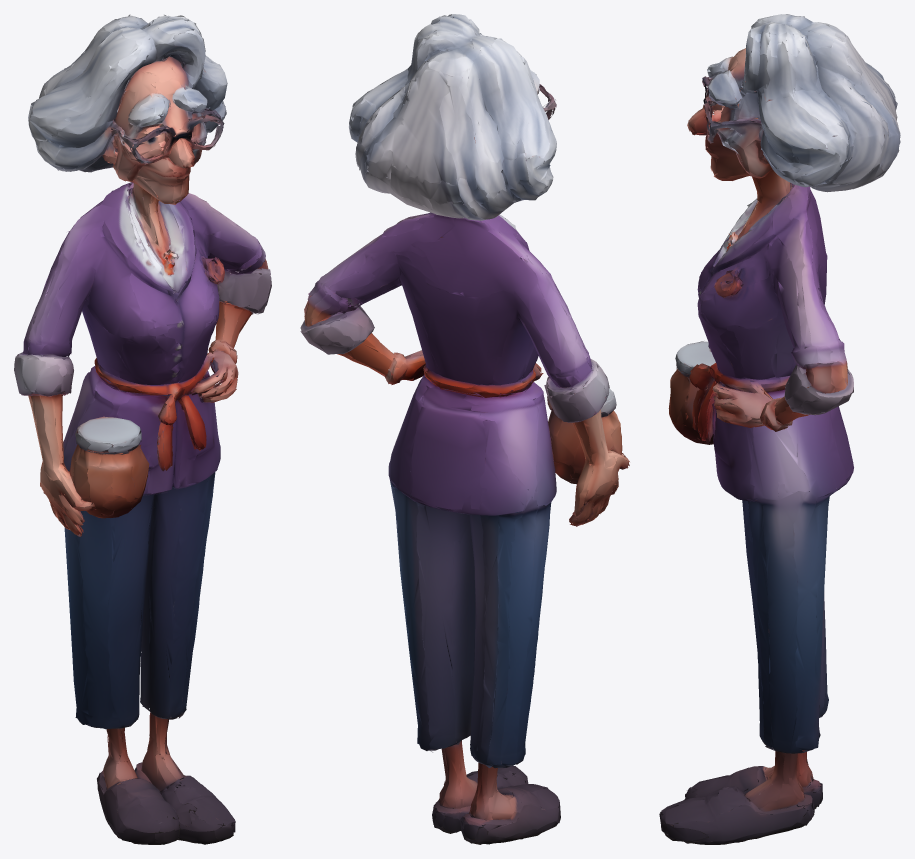
The model's file is dona_rosa_hipotensao.glb.
The picture shows the model from 3 angles, left to right: view 1: azimuth 30°, elevation 25°; view 2: azimuth 150°, elevation 25°; view 3: azimuth 270°, elevation 25°; orthographic projection. The views are drawn at different scales.
Visible parts, largest first — view 1: Mesh_0; view 2: Mesh_0; view 3: Mesh_0.
Boxes of the visible parts, x1,y1,x2,y2 form: Mesh_0: (14, 14, 271, 844); Mesh_0: (300, 14, 629, 844); Mesh_0: (659, 14, 900, 844).
Bounding box in the file's own units: 0.6131 × 1.72 × 0.4632.
Materials: 1 (1 with a texture image).
